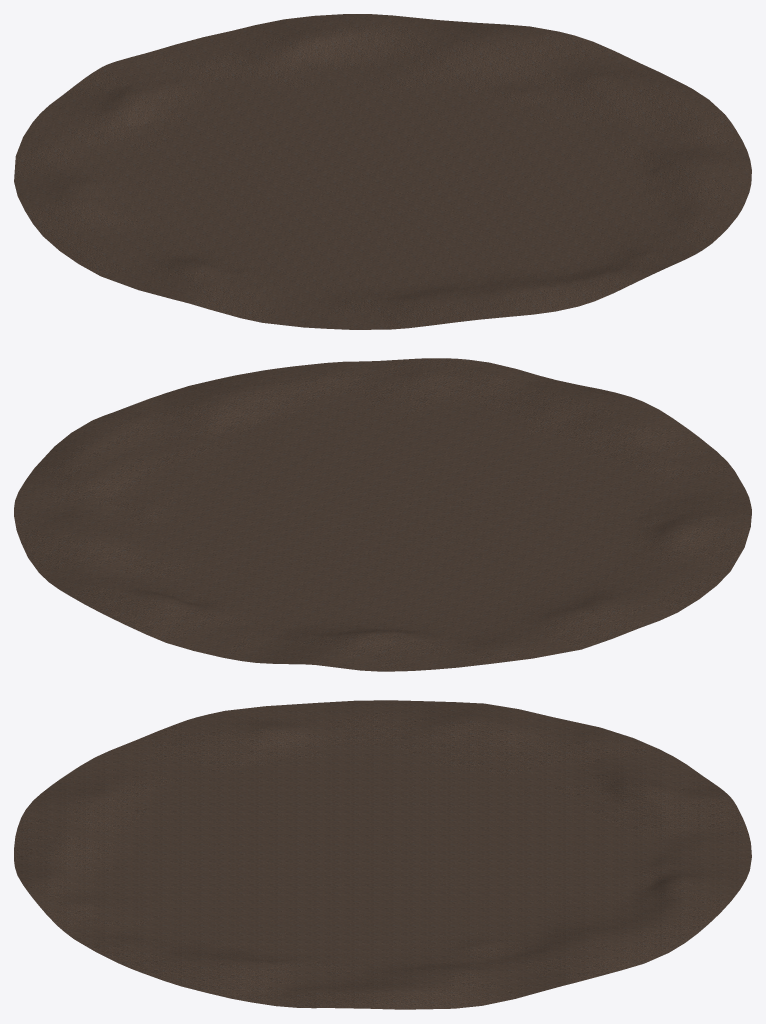
File: EP1_BigTerrain04.fbx
The picture shows the model from 3 angles, top to bottom: view 1: azimuth 30°, elevation 25°; view 2: azimuth 150°, elevation 25°; view 3: azimuth 270°, elevation 25°; orthographic projection.
Visible parts, largest first — view 1: EP1_BigTerrain04; view 2: EP1_BigTerrain04; view 3: EP1_BigTerrain04.
Boxes of the visible parts, x1,y1,x2,y2 form: EP1_BigTerrain04: (14, 14, 751, 329); EP1_BigTerrain04: (14, 358, 751, 671); EP1_BigTerrain04: (14, 700, 751, 1009).
Bounding box in the file's own units: 803 × 13.82 × 803.
1 material, 1 textured.
